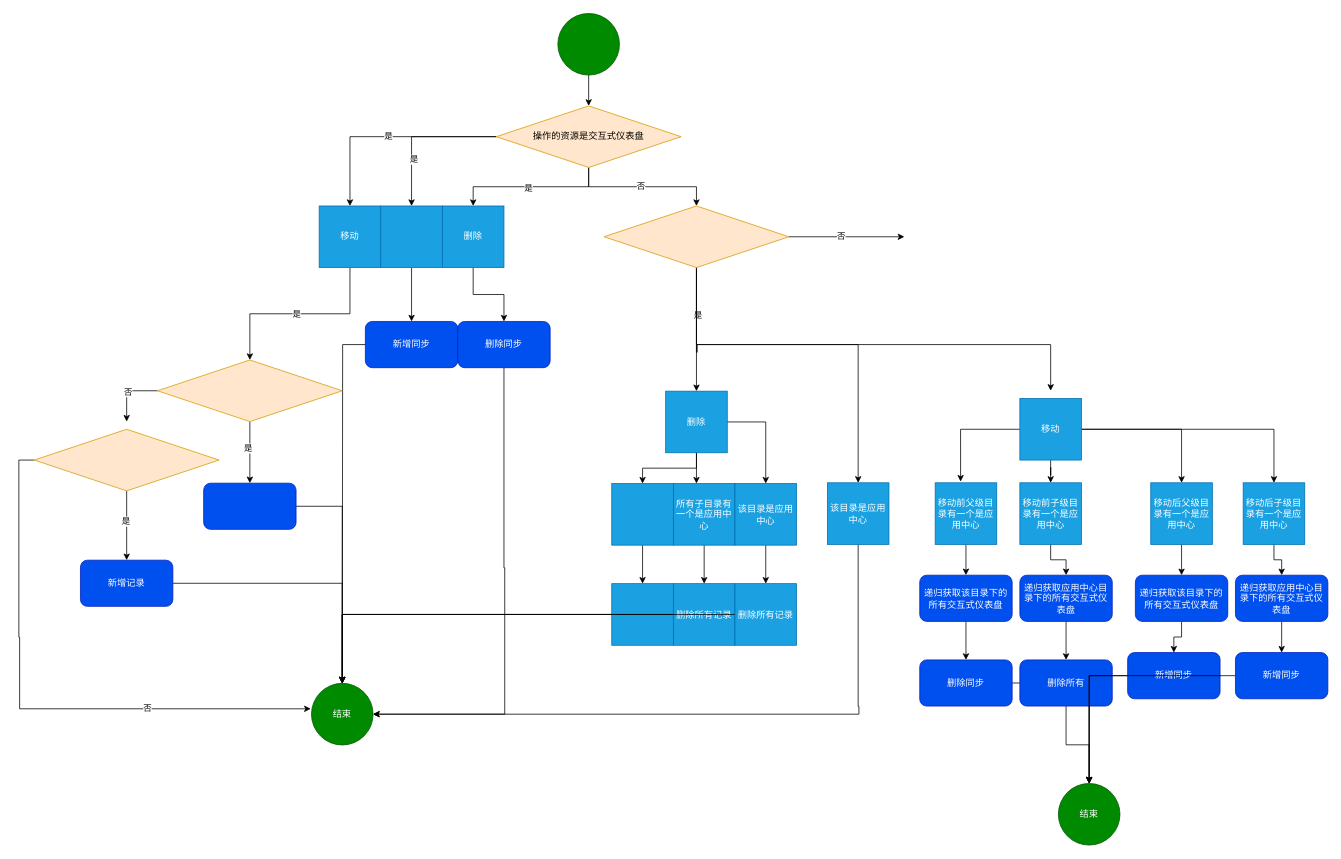
This 1341x859 diagram has some shape labels left out. The centre of each missing label's shape, as x and y in pixels:
删除记录: point 249,505
开始: point 588,44
所有父级目录有一个是应用中心: point 642,514
新增: point 411,236
是否是文件夹: point 696,236
移动前的目录是应用中心: point 249,390
移动后的目录是应用中心: point 126,460
该目录下的所有交互式仪表盘删除同步: point 642,614
